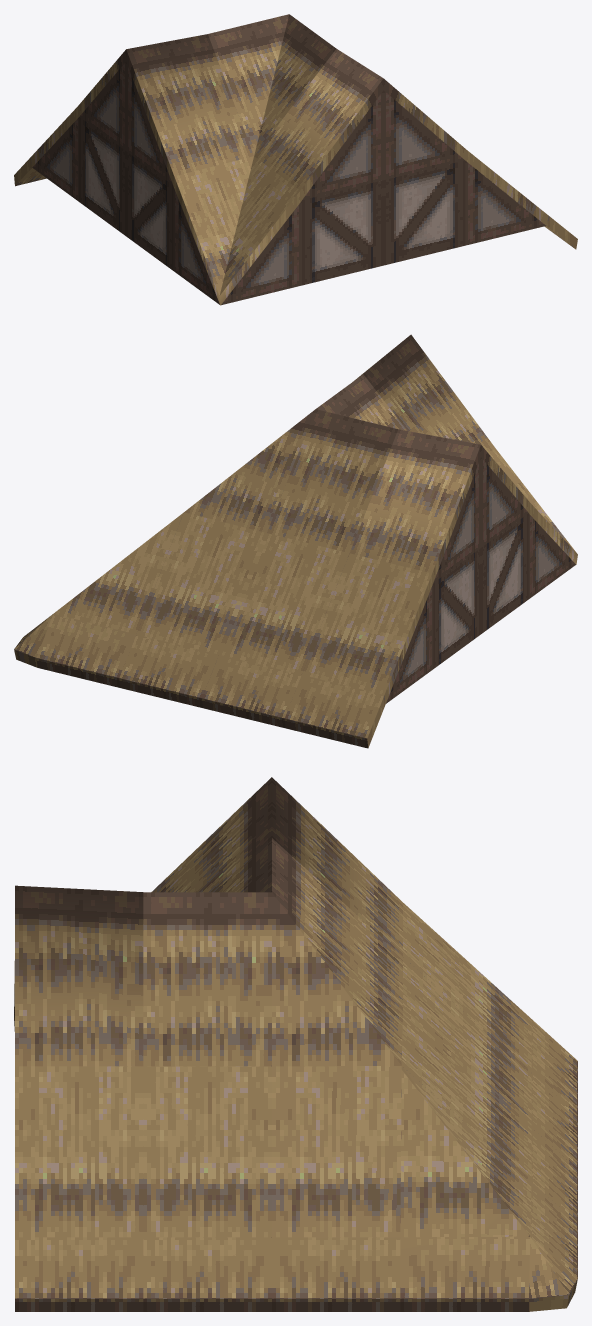
The model's file is roof_straw_corner.glb.
3 renders of one model, top to bottom at view 1: azimuth 30°, elevation 25°; view 2: azimuth 150°, elevation 25°; view 3: azimuth 270°, elevation 25°, orthographic. The views are drawn at different scales.
Visible parts, largest first — view 1: roof_straw_corner; view 2: roof_straw_corner; view 3: roof_straw_corner.
Boxes of the visible parts, box(x1,y1,x2,y2) form: roof_straw_corner: box(14, 14, 577, 305); roof_straw_corner: box(14, 334, 577, 748); roof_straw_corner: box(14, 777, 577, 1311).
Size of the model in its own units: 5.5 by 3.2 by 5.49.
Materials: 1 (1 with a texture image).
